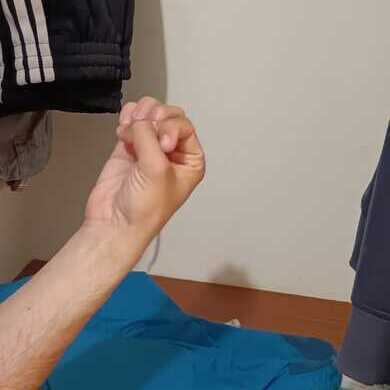E: (79, 94, 209, 239)
